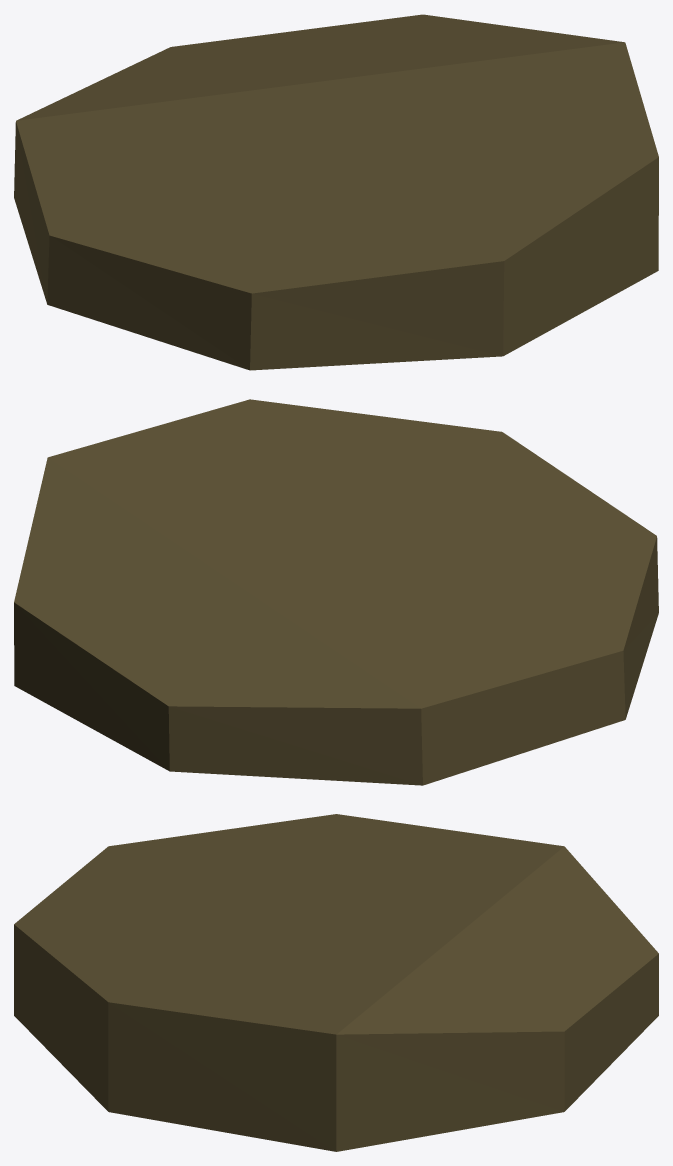
Rendered from ITMI_GOLD.OBJ.
The picture shows the model from 3 angles, top to bottom: view 1: azimuth 30°, elevation 25°; view 2: azimuth 150°, elevation 25°; view 3: azimuth 270°, elevation 25°; orthographic projection. The views are drawn at different scales.
Visible parts, largest first — view 1: ITMI_GOLD; view 2: ITMI_GOLD; view 3: ITMI_GOLD.
Part boxes in pixels (left/top/right/bottom): ITMI_GOLD: left=14, top=14, right=658, bottom=370; ITMI_GOLD: left=14, top=399, right=658, bottom=785; ITMI_GOLD: left=14, top=814, right=658, bottom=1151.
Bounding box in the file's own units: 0.1 × 0.0201 × 0.1.
